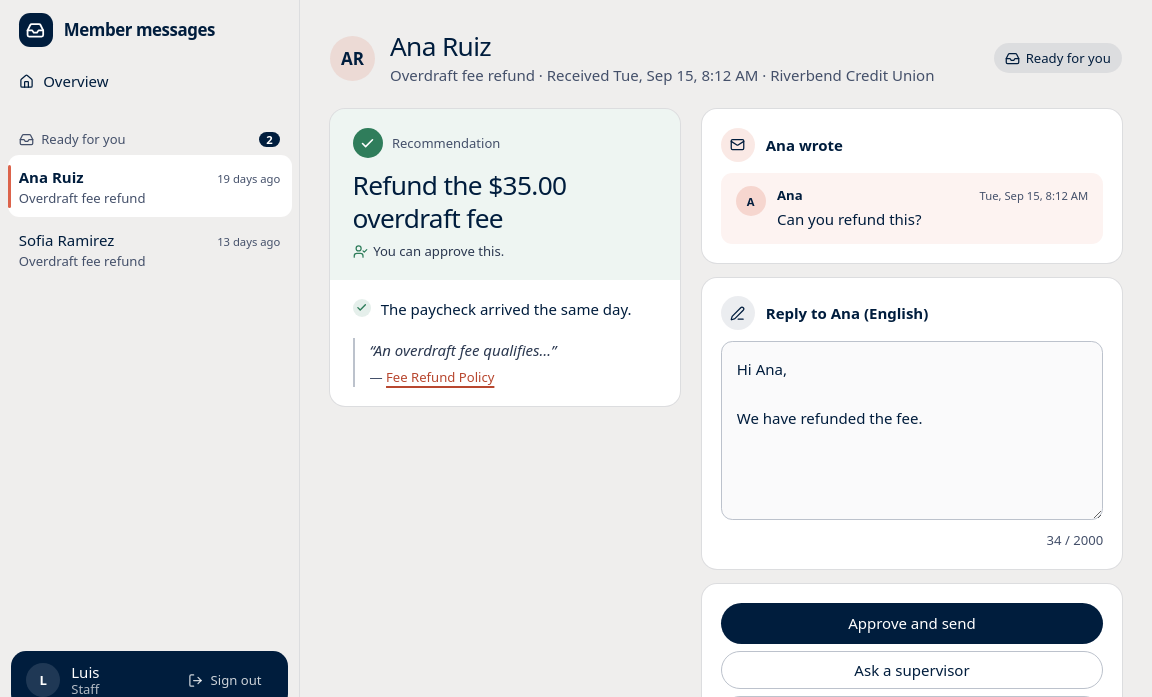
it: moving between cases › offers the next ready case after a decision and opens it
Click the button "Approve and send" at (912, 623), box [721, 603, 1103, 644]
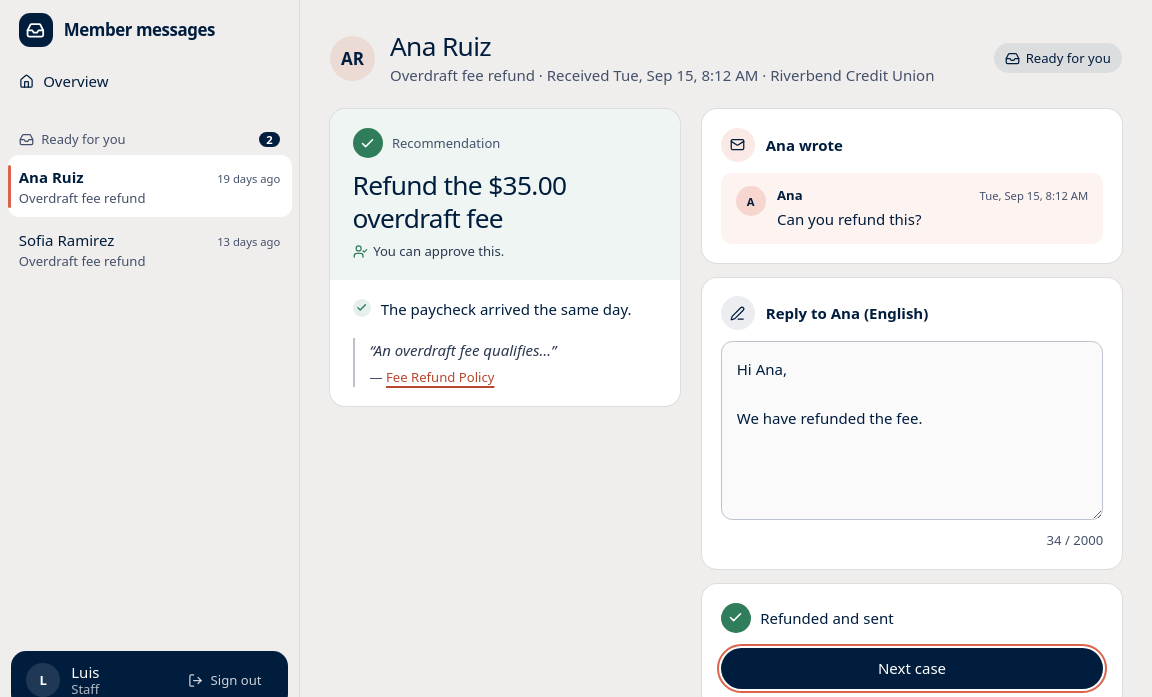
Click the button "Next case" at (912, 668), box [721, 648, 1103, 689]
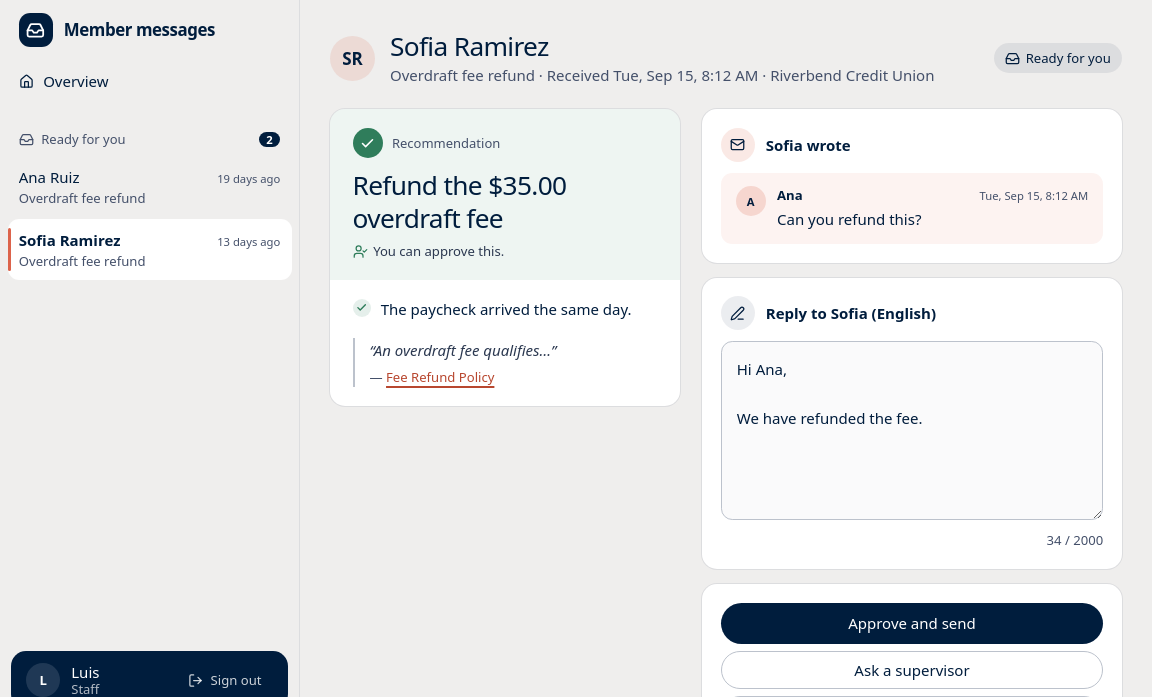
Check: the heading "Sofia Ramirez" is shown, box [390, 28, 549, 64]
